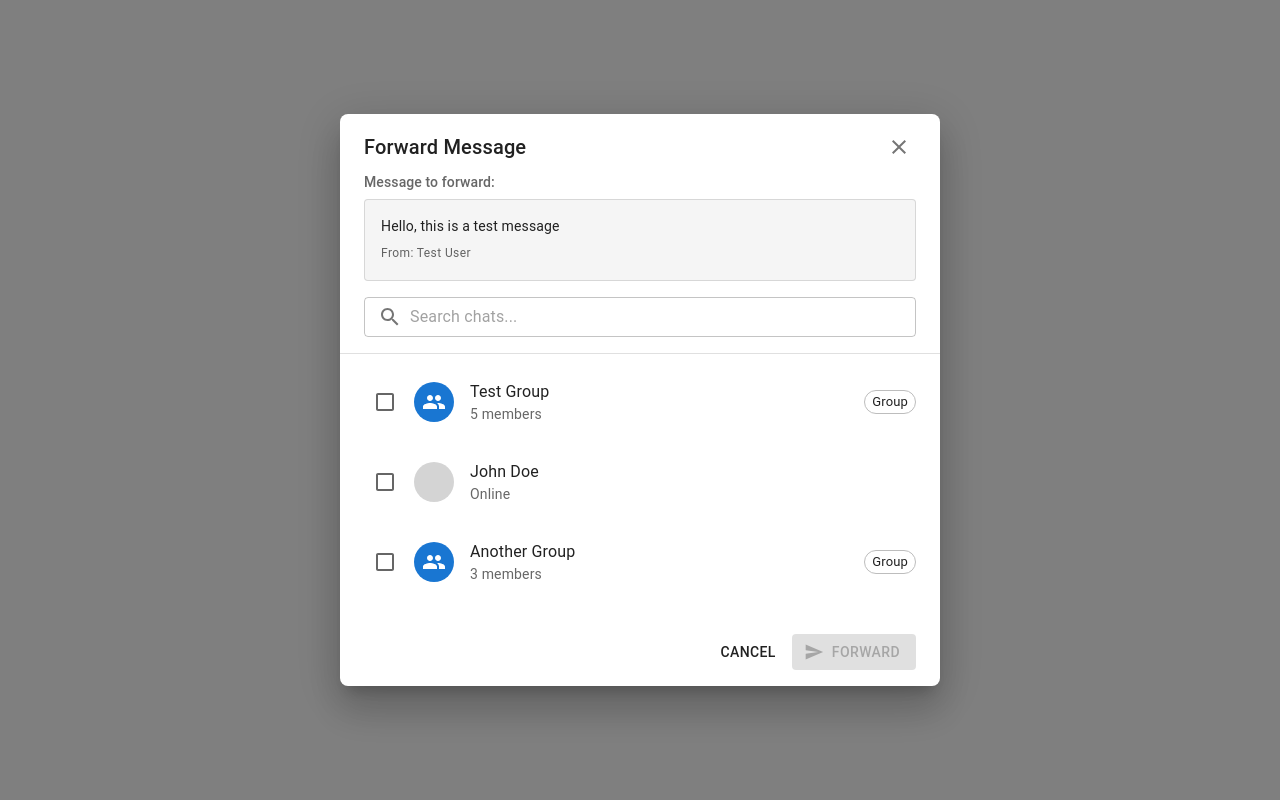
Scenario: MessageForwardDialog › Chat Selection › enforces maximum selection limit
// Select first two chats
What coordinates should you click on to do the following:
click the checkbox named "Select Test Group"
I would click on:
 (385, 402)
Its box is [373,390,397,414].
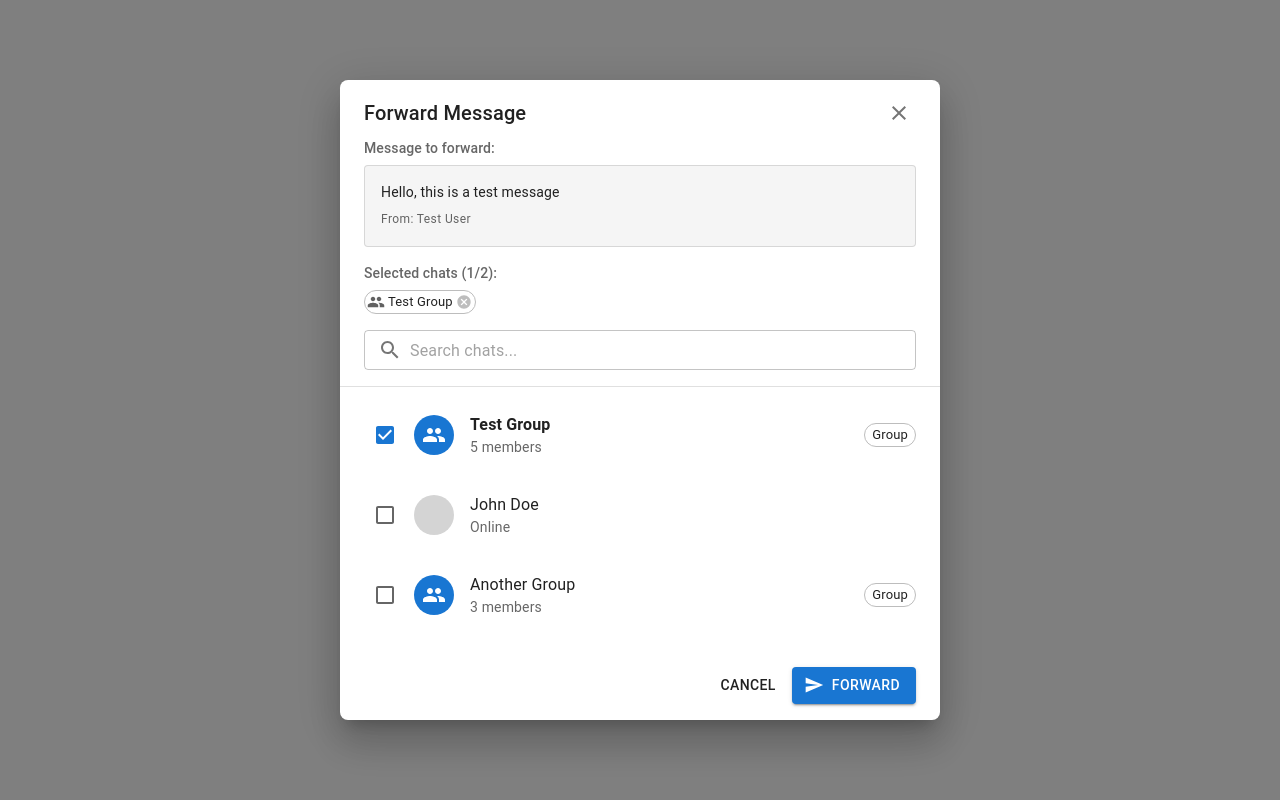
What coordinates should you click on to do the following:
click the checkbox named "Select John Doe"
I would click on:
 (385, 515)
Its box is [373,503,397,527].
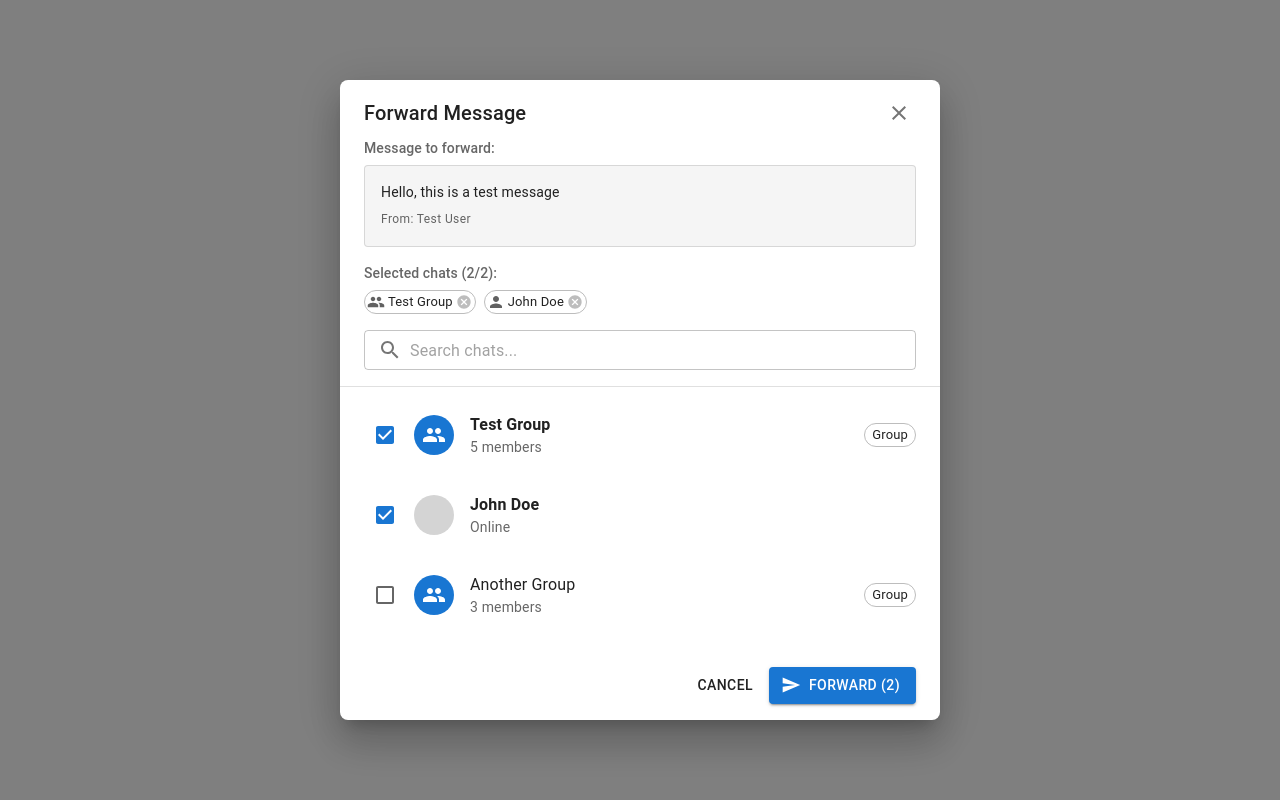
Result: the heading "Selected chats (2/2):" is shown at [364,265,497,281]
// Try to select third chat
What coordinates should you click on to do the following:
click the checkbox named "Select Another Group"
I would click on:
 (385, 595)
Its box is [373,583,397,607].
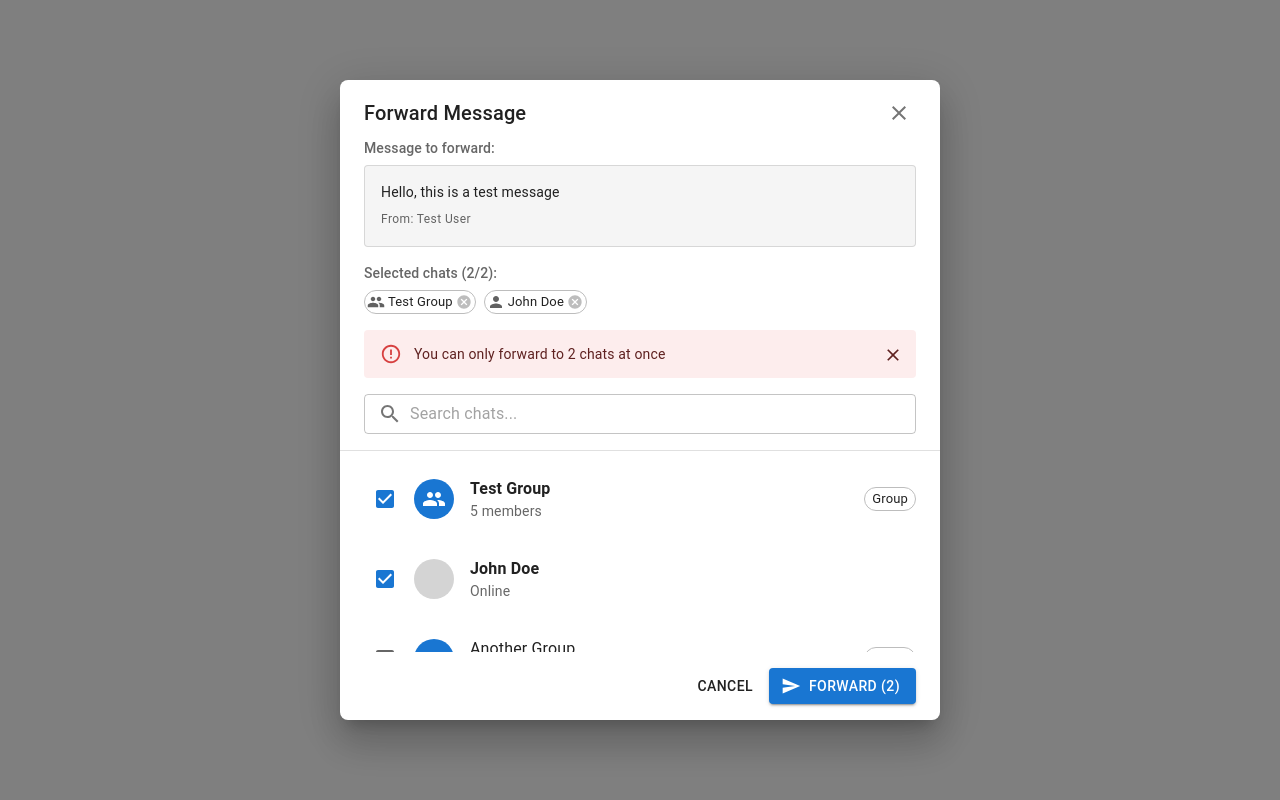
Result: the heading "Selected chats (2/2):" is shown at [364,265,497,281]
Result: the text "You can only forward to 2 chats at once" is shown at [414,346,666,362]
